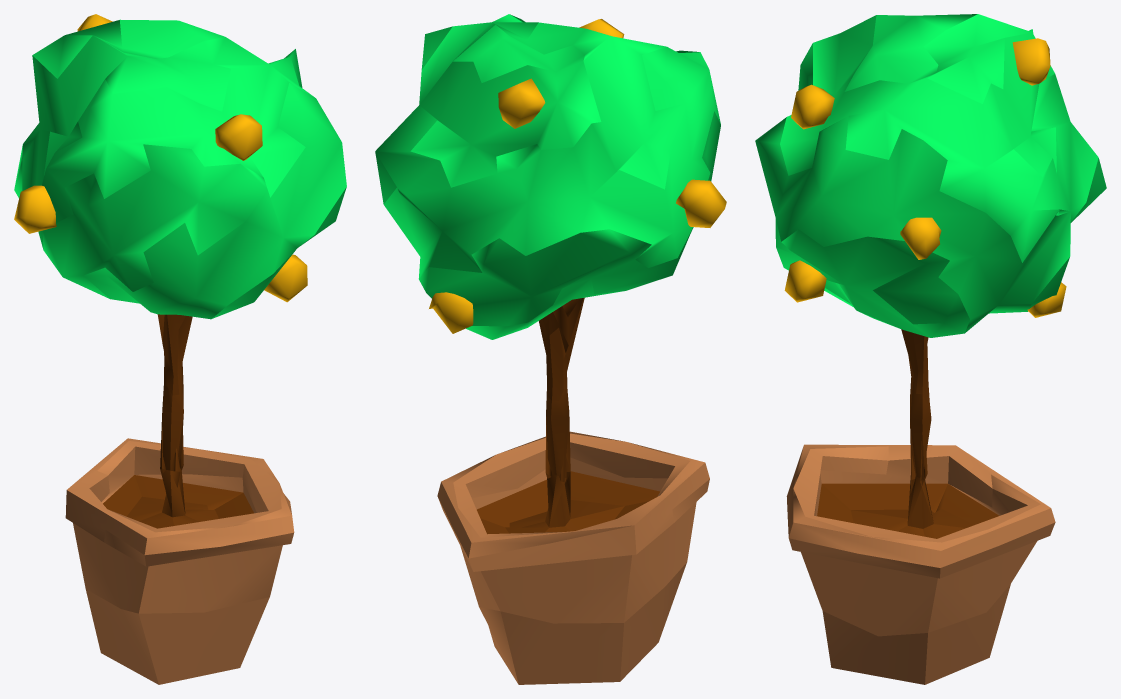
Rendered from orangetree.fbx.
3 views of the same model, side by side, from view 1: azimuth 30°, elevation 25°; view 2: azimuth 150°, elevation 25°; view 3: azimuth 270°, elevation 25° (orthographic). The views are drawn at different scales.
Parts seen in each view (by area): view 1: pSolid13; view 2: pSolid13; view 3: pSolid13.
Part boxes in pixels (<box>): pSolid13: <box>14,14,346,684</box>; pSolid13: <box>375,14,726,684</box>; pSolid13: <box>755,14,1106,684</box>.
Size of the model in its own units: 23.42 by 45.99 by 23.79.
